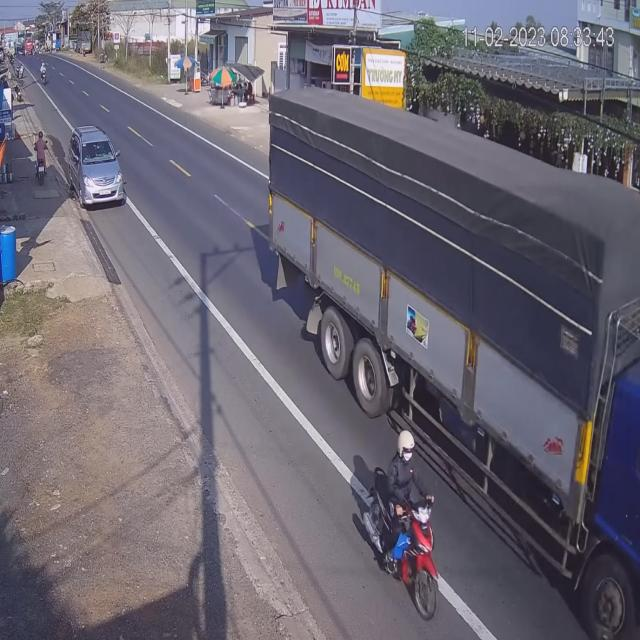car: (68, 126, 126, 209)
motorbike: (357, 445, 438, 618), (34, 130, 47, 181), (39, 63, 48, 82)
truck: (268, 108, 636, 637)
